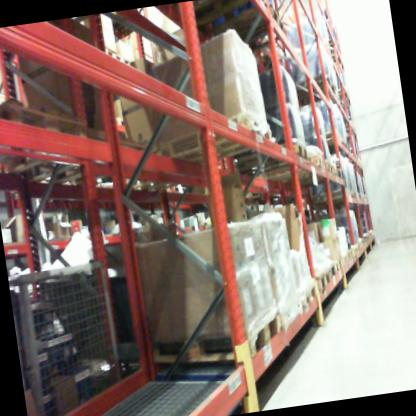pallet: (142, 310, 289, 378), (0, 79, 96, 161), (176, 0, 297, 61), (156, 115, 280, 170), (307, 130, 359, 213), (226, 139, 311, 171), (154, 0, 277, 21), (245, 152, 332, 181), (282, 72, 345, 111), (271, 161, 338, 186), (304, 265, 334, 302), (298, 280, 320, 314), (121, 53, 141, 76), (104, 43, 123, 65), (322, 264, 336, 285), (331, 256, 344, 276), (335, 165, 347, 183), (340, 253, 349, 269), (351, 241, 360, 256), (345, 248, 353, 259)
stillage: (7, 249, 136, 416)
